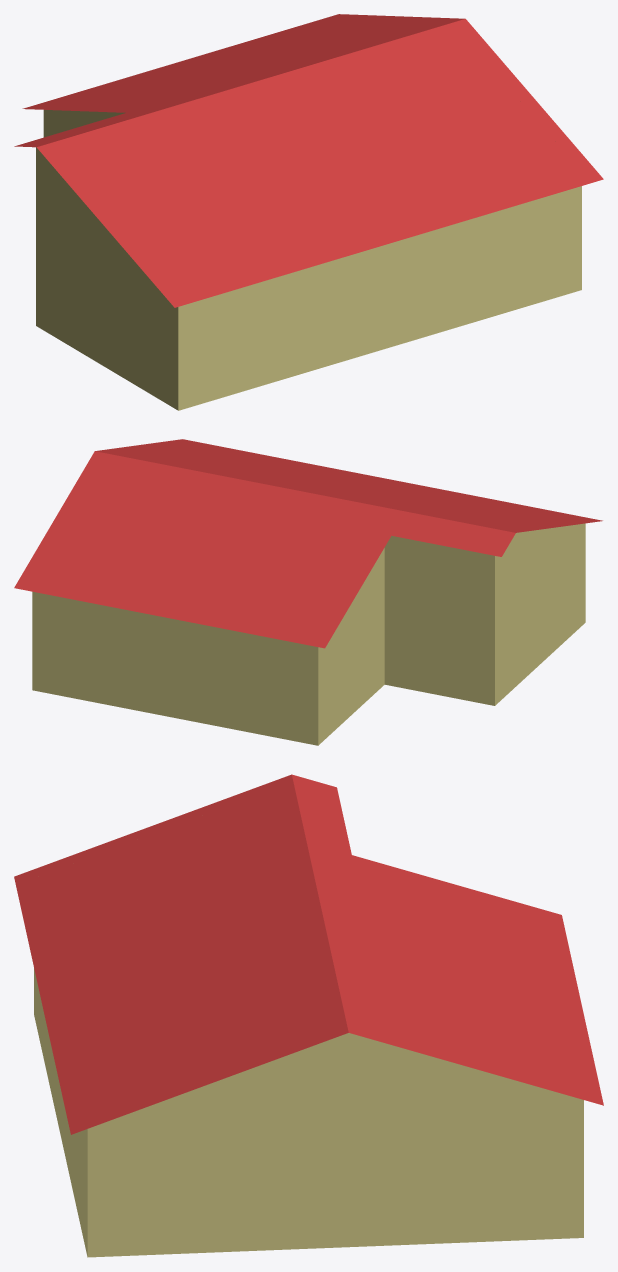
3 views of the same model, one above another, from view 1: azimuth 30°, elevation 25°; view 2: azimuth 150°, elevation 25°; view 3: azimuth 270°, elevation 25° (orthographic). The views are drawn at different scales.
Bounding box in the file's own units: 34.88 × 32.08 × 13.33.
